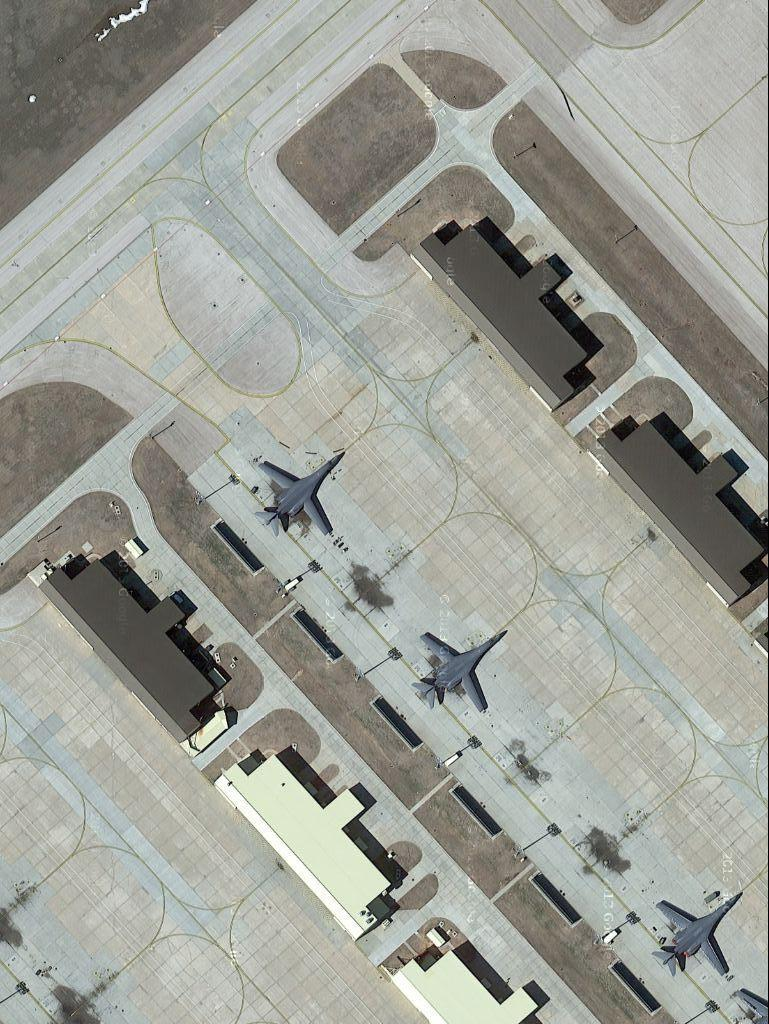B-1B: (652, 888, 747, 980), (416, 628, 507, 716), (259, 448, 346, 539)
